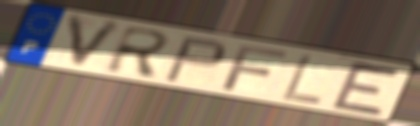E: (328, 59, 405, 118)
F: (219, 43, 292, 93)
L: (278, 52, 326, 107)
P: (161, 35, 230, 84)
R: (102, 24, 176, 80)
V: (65, 13, 128, 73)
